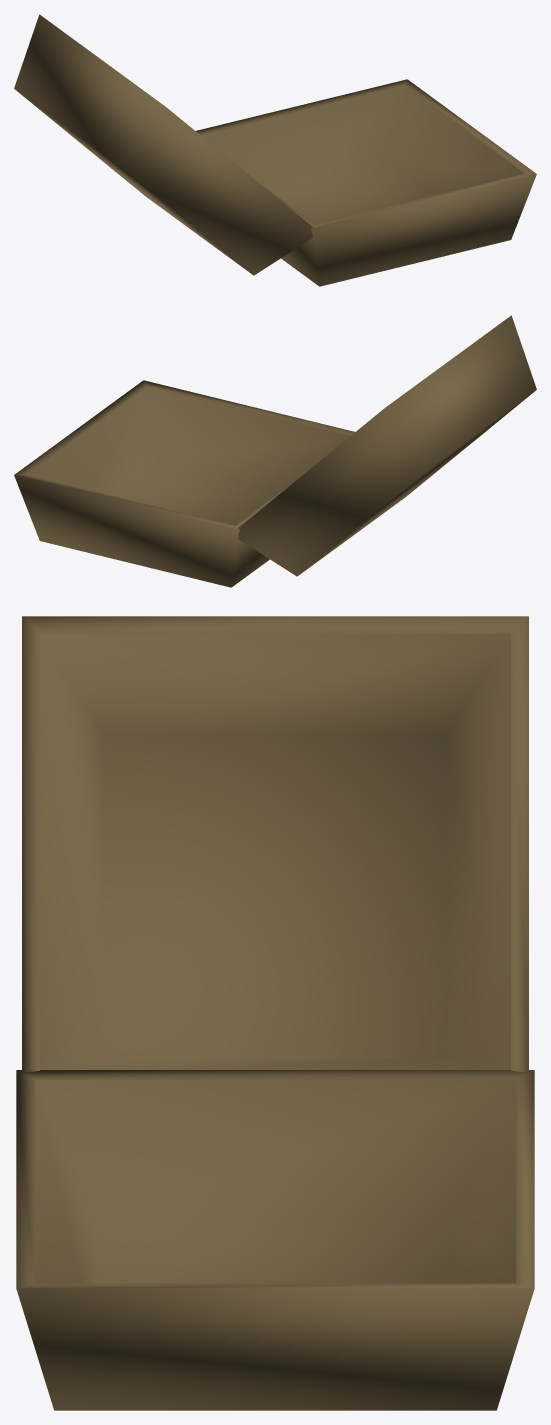
The model's file is Trash_Box1.fbx.
3 views of the same model, one above another, from view 1: azimuth 30°, elevation 25°; view 2: azimuth 150°, elevation 25°; view 3: azimuth 270°, elevation 25° (orthographic). The views are drawn at different scales.
Visible parts, largest first — view 1: Box; view 2: Box; view 3: Box.
Boxes of the visible parts, <box> form: Box: <box>14,14,536,286</box>; Box: <box>14,315,536,587</box>; Box: <box>16,616,534,1410</box>.
Size of the model in its own units: 79.33 by 42.21 by 44.04.
